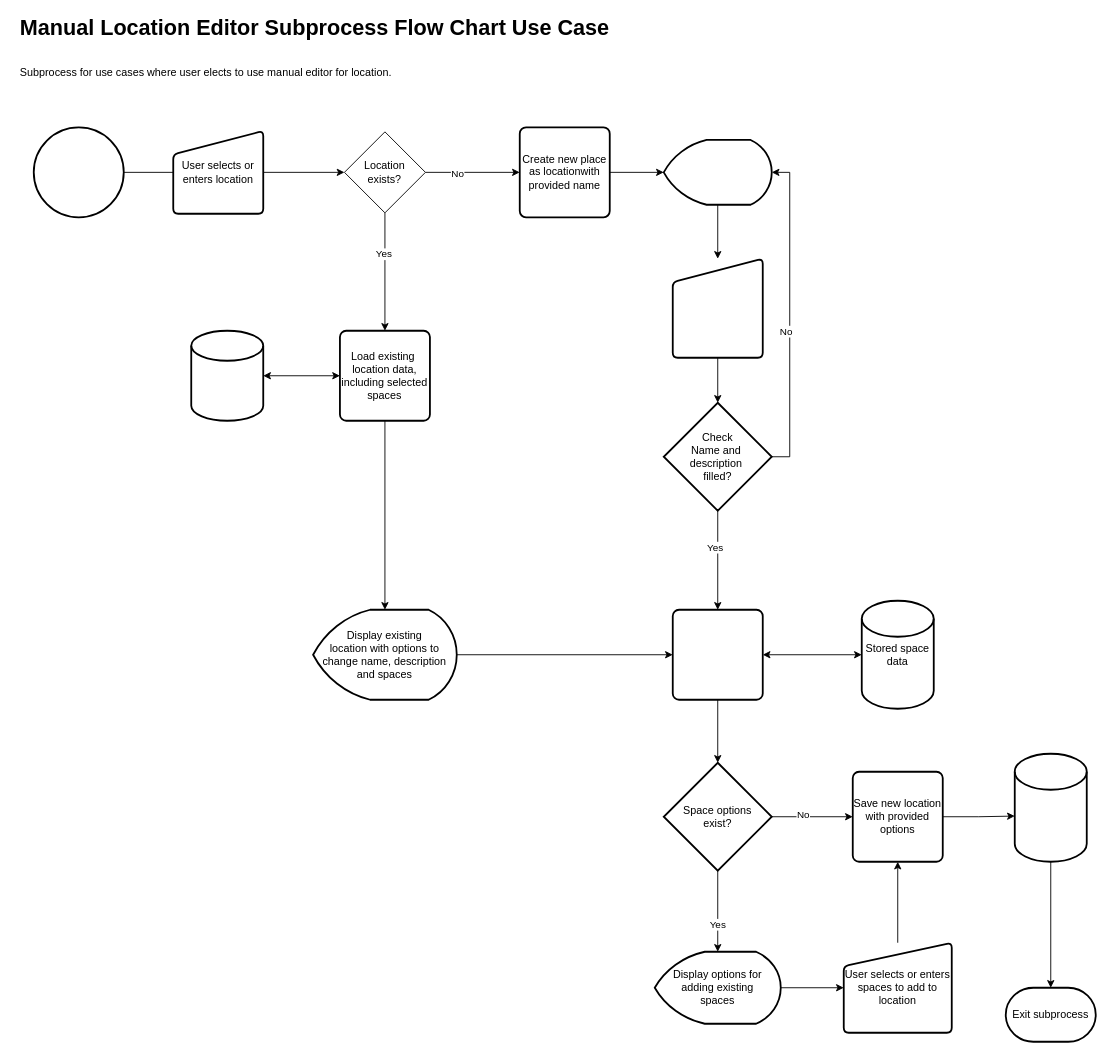
Some shapes in this 1112 by 1058 pixel diagram are drawn without their labels. Each missing label, with the centre of its shape:
"Data store" belongs at point (1050, 807).
"Display location options with prompt" belongs at point (717, 172).
"Load existing space options to add to this location" belongs at point (717, 654).
"Start subprocess" belongs at point (78, 172).
"Stored data" belongs at point (227, 375).
"User fills in name and description" belongs at point (717, 307).
